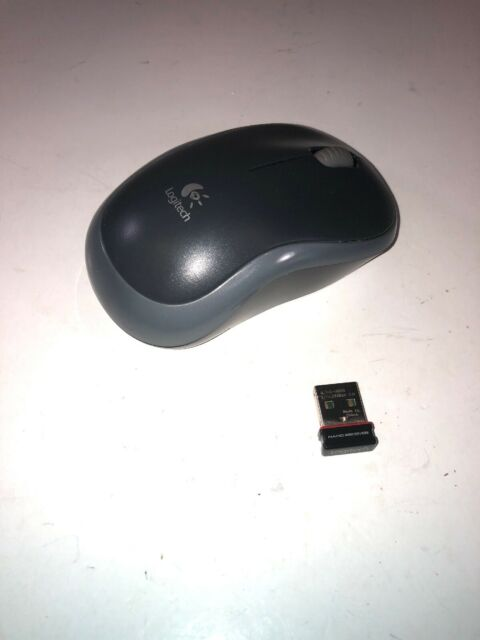logitech-mouse-m185: (83, 118, 401, 456)
